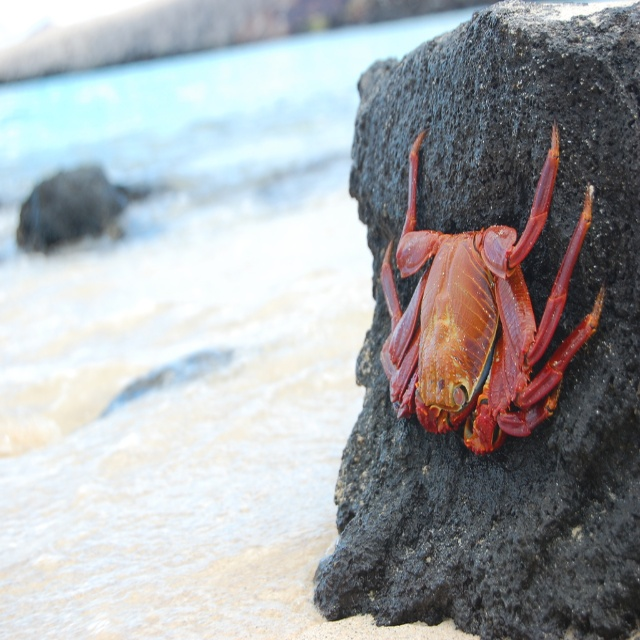Crab: (380, 124, 612, 455)
